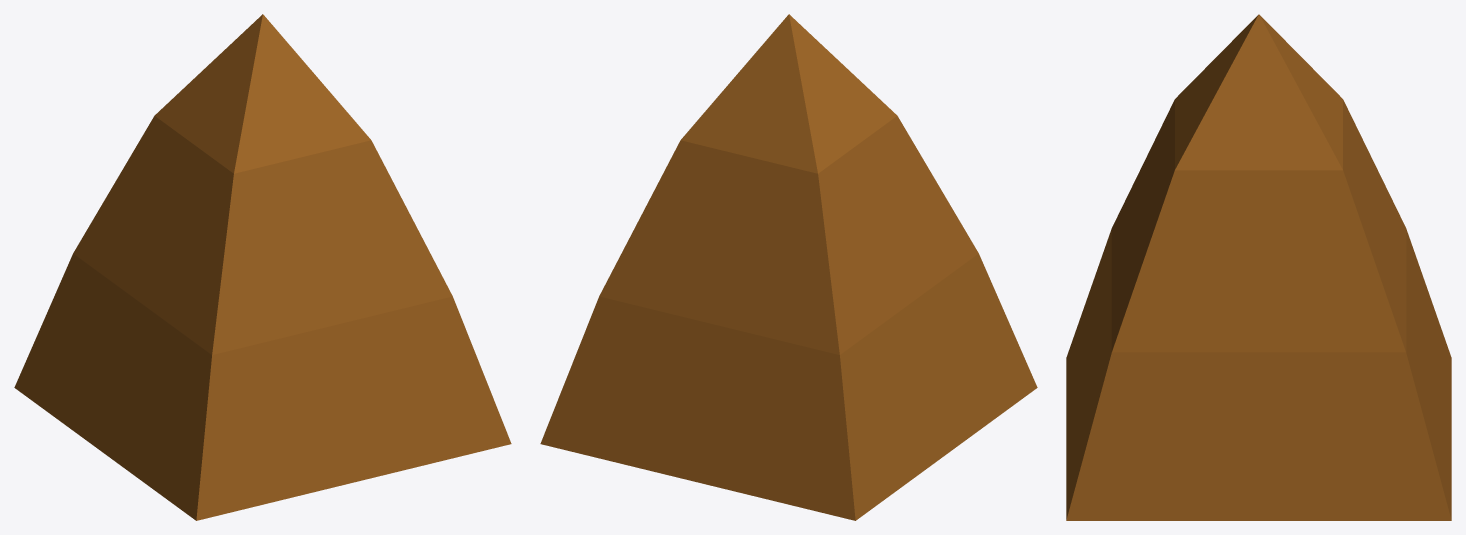
The model's file is mountain_seal.obj.
3 renders of one model, left to right at view 1: azimuth 30°, elevation 25°; view 2: azimuth 150°, elevation 25°; view 3: azimuth 270°, elevation 25°, orthographic. The views are drawn at different scales.
Visible parts, largest first — view 1: MountainSeal; view 2: MountainSeal; view 3: MountainSeal.
Boxes of the visible parts, x1=… form: MountainSeal: x1=14, y1=14, x2=511, y2=520; MountainSeal: x1=540, y1=14, x2=1037, y2=520; MountainSeal: x1=1066, y1=14, x2=1451, y2=520.
Bounding box in the file's own units: 1.1 × 1.35 × 1.1.
